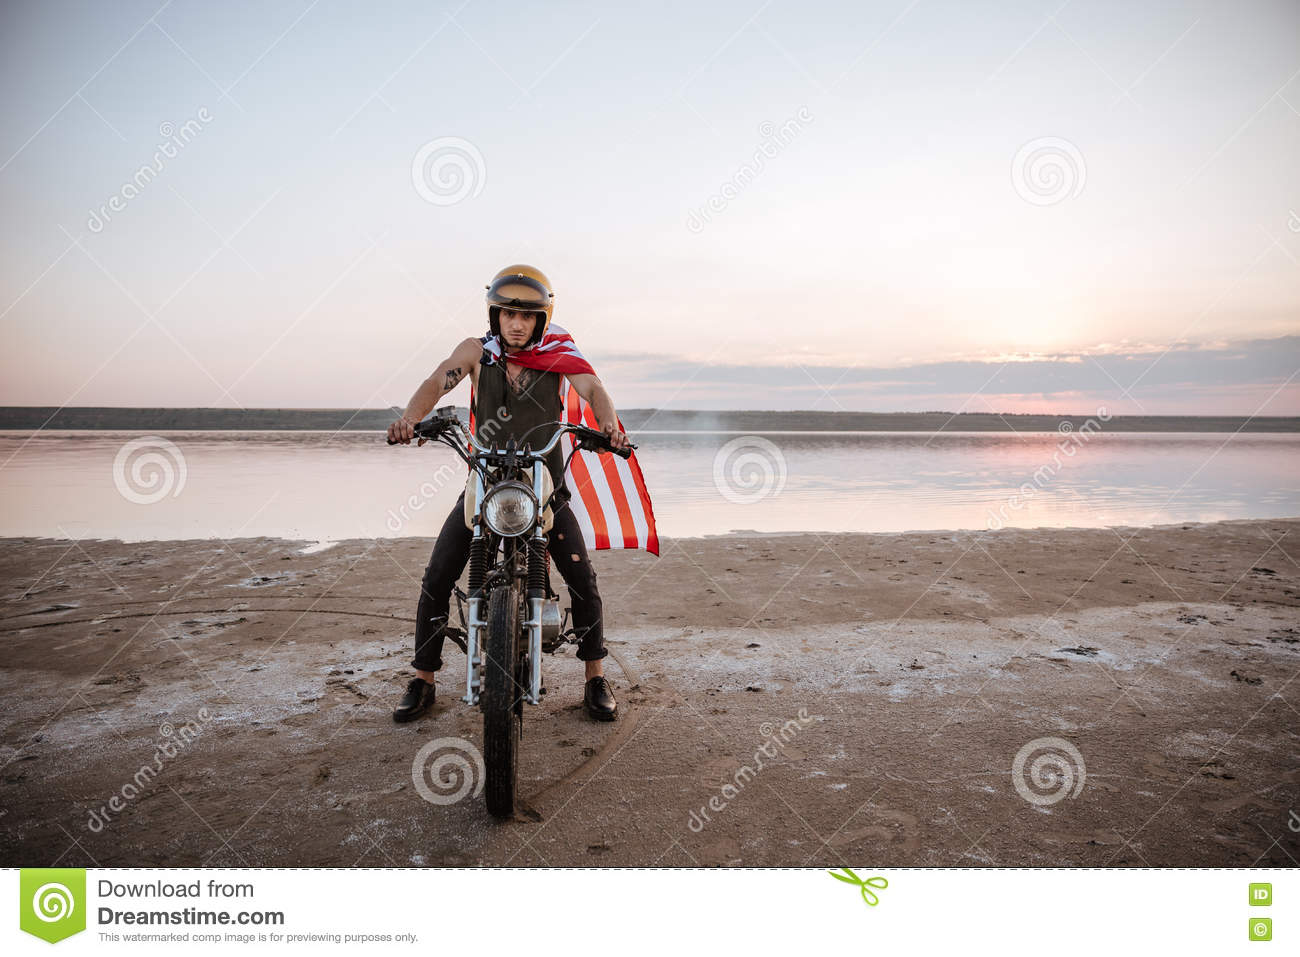helmet: (483, 265, 560, 344)
